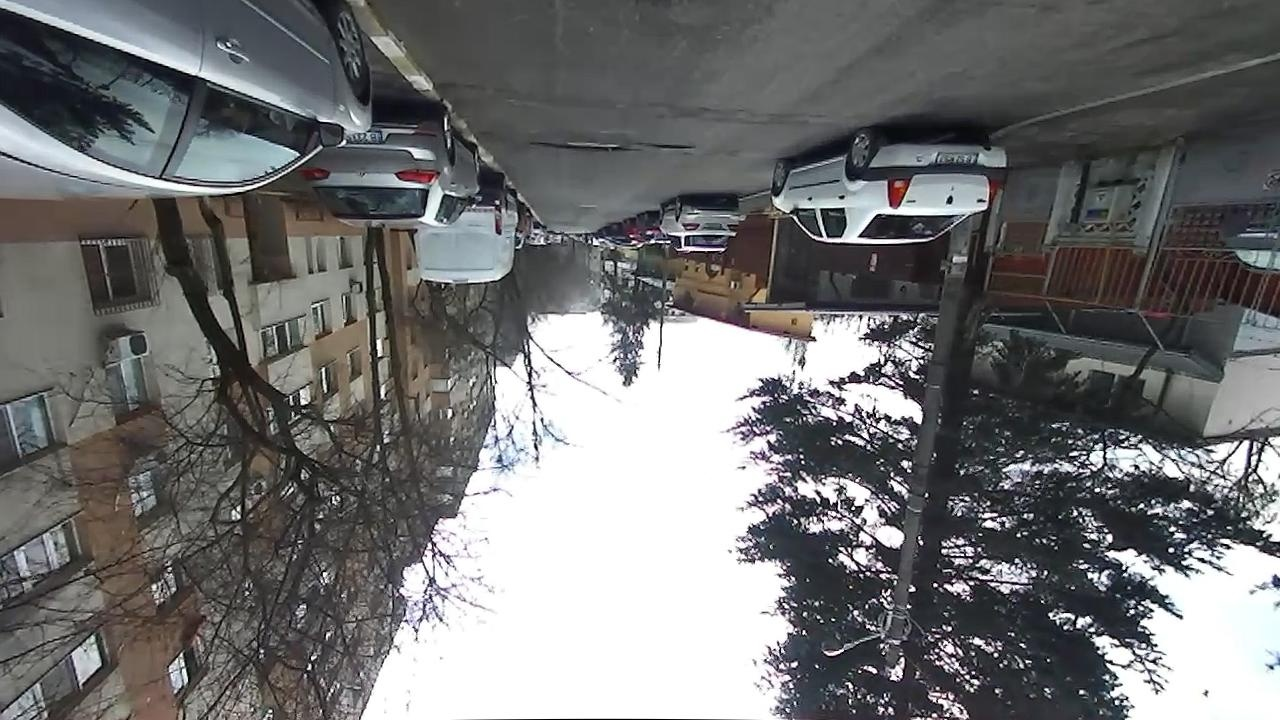pothole: (532, 141, 622, 152), (644, 141, 694, 148)
